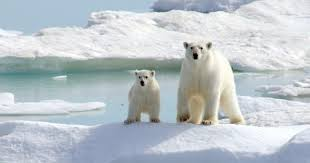PolarBear: (172, 35, 251, 129)
